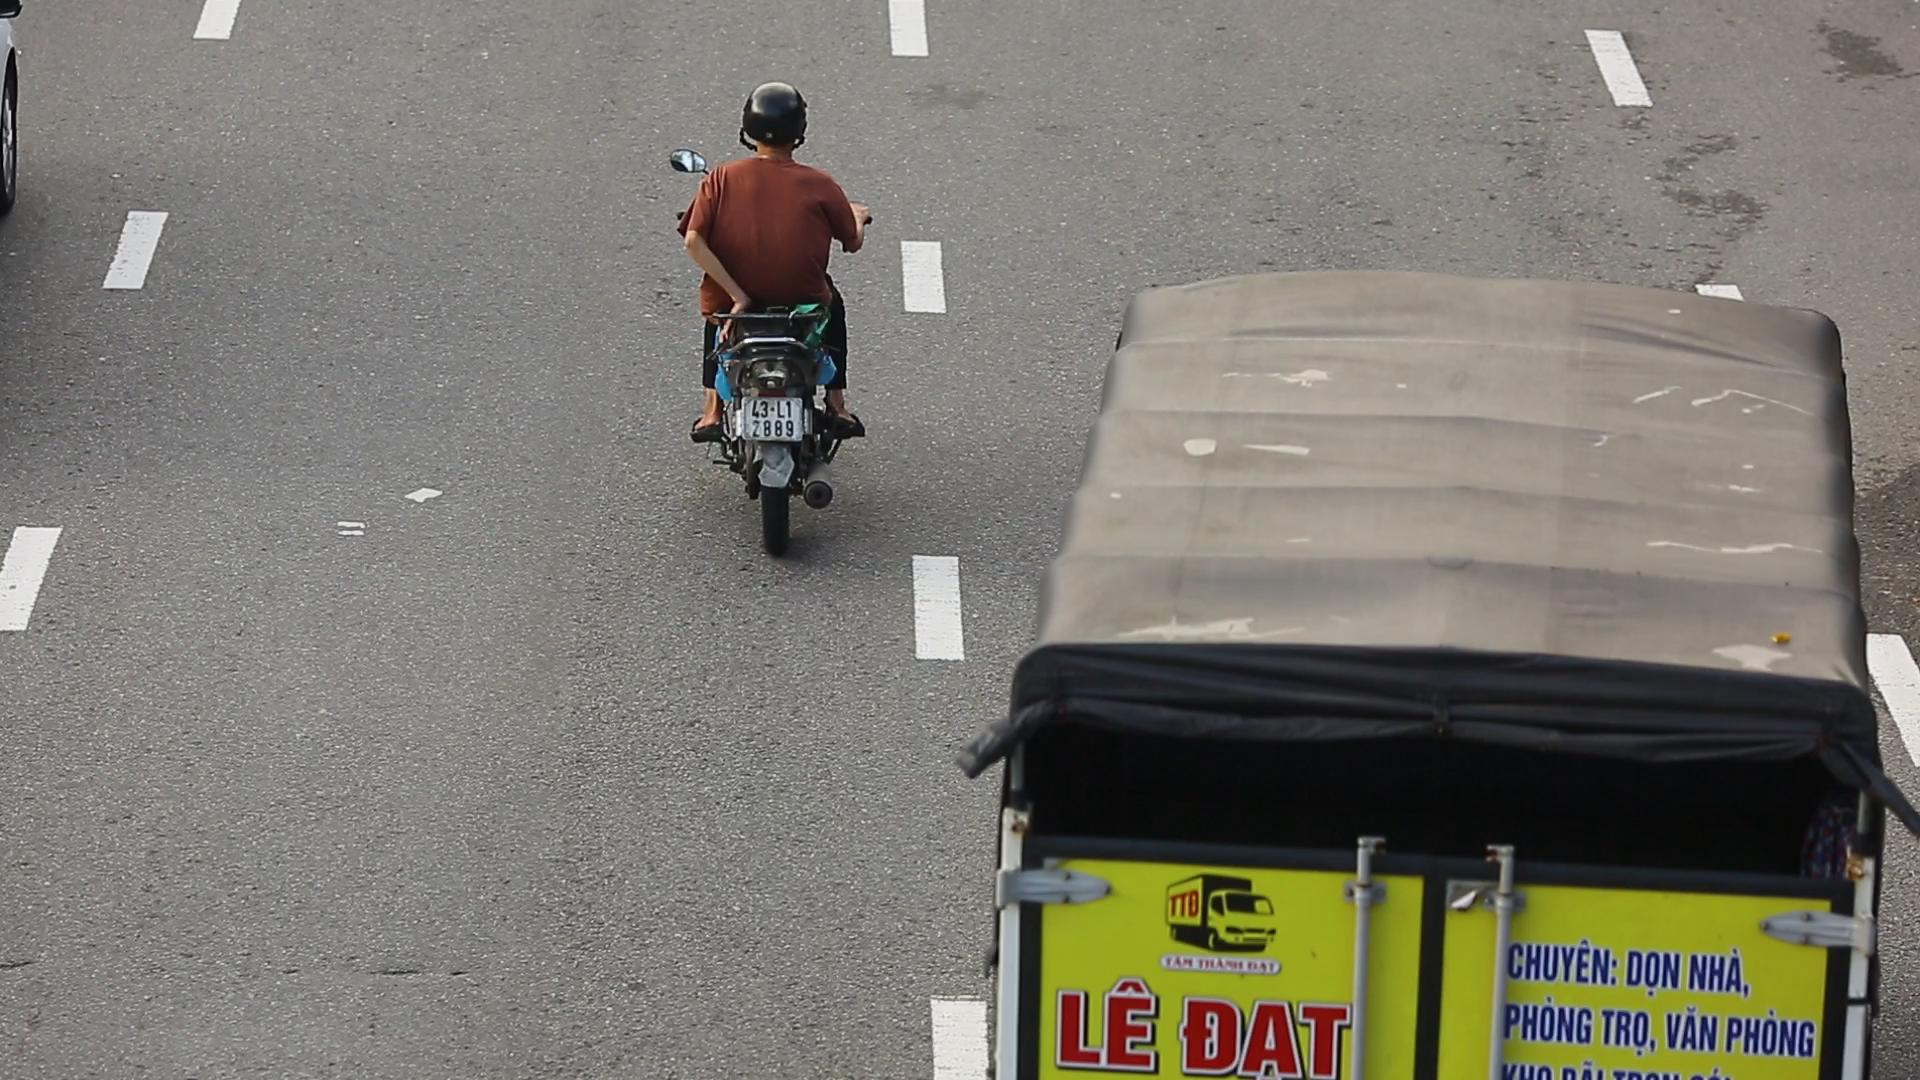motobike: (673, 78, 890, 580)
